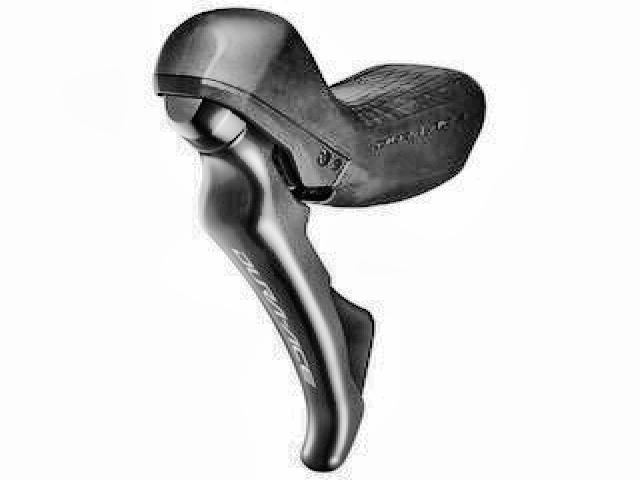sti_shifter: (152, 7, 474, 472)
